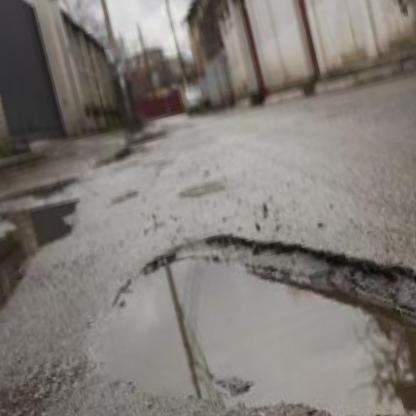pothole: (65, 160, 416, 416)
